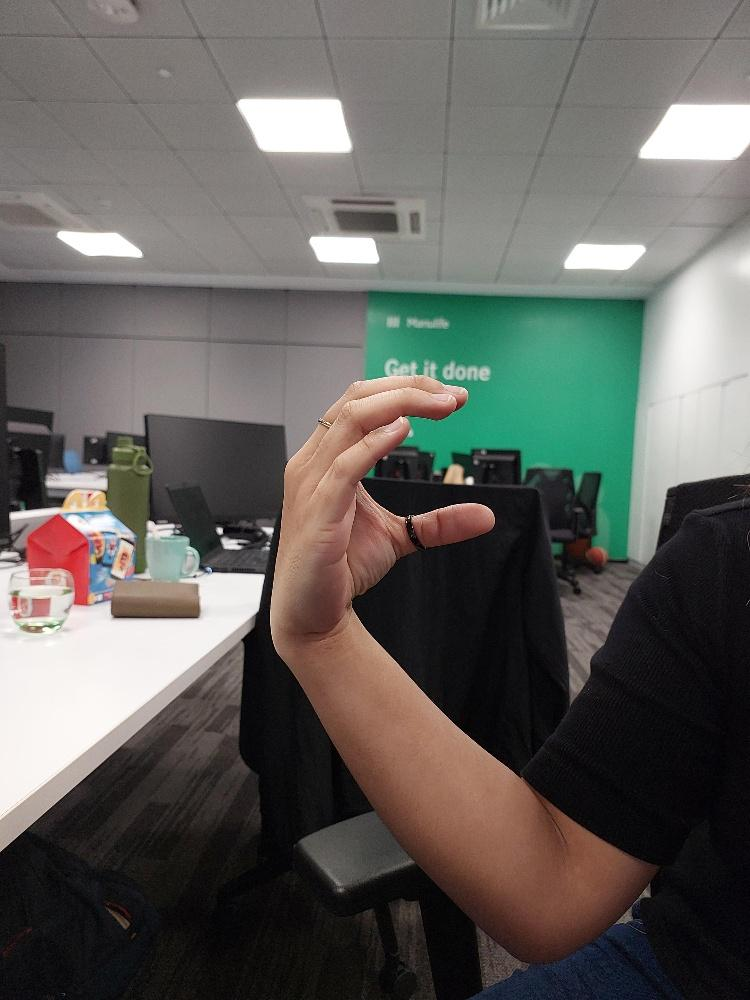c: (266, 370, 499, 646)
